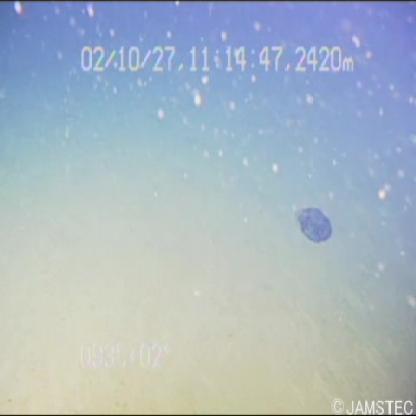Rác: (289, 188, 350, 253)
